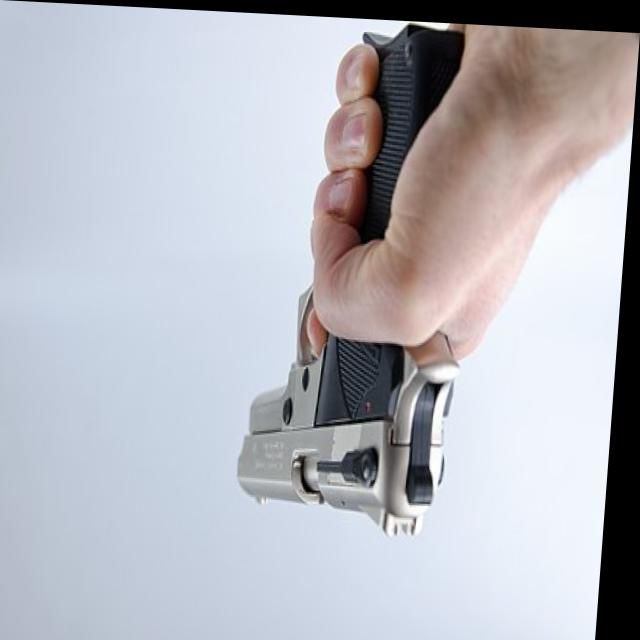handgun: (240, 12, 485, 532)
